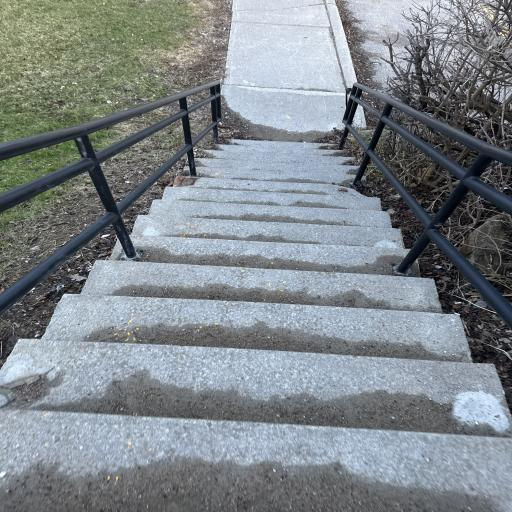Stairs: (0, 140, 512, 512)
